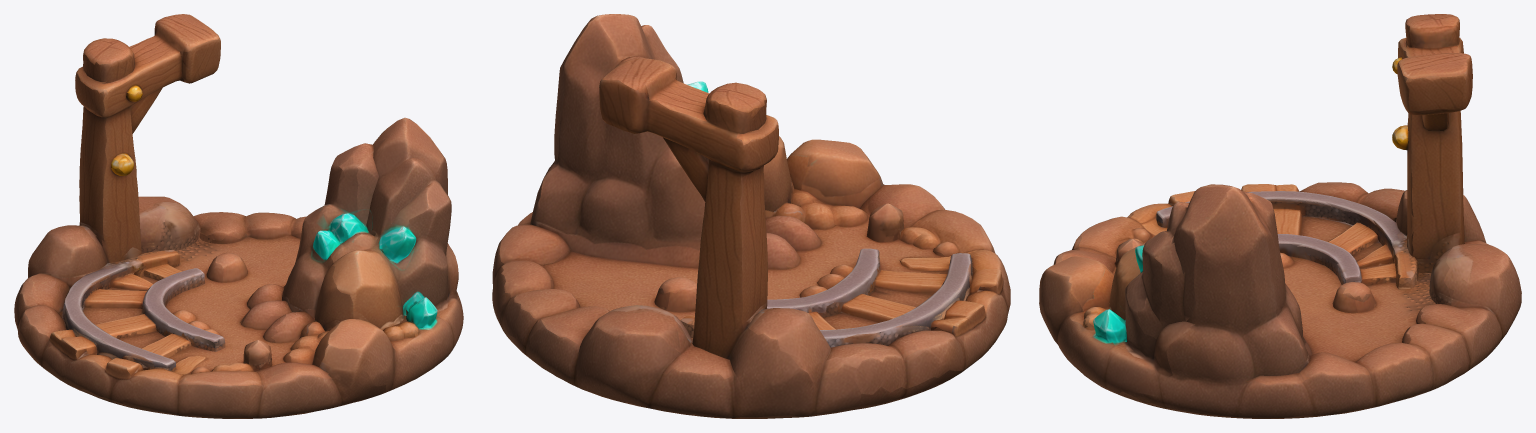
Rendered from mine-base.glb.
3 renders of one model, left to right at view 1: azimuth 30°, elevation 25°; view 2: azimuth 150°, elevation 25°; view 3: azimuth 270°, elevation 25°, orthographic. The views are drawn at different scales.
Parts seen in each view (by area): view 1: world; view 2: world; view 3: world.
Boxes of the visible parts, x1,y1,x2,y2 form: world: [14, 14, 463, 418]; world: [492, 14, 1010, 418]; world: [1039, 14, 1521, 418].
Bounding box in the file's own units: 0.9969 × 0.6278 × 0.9988.
Materials: 1 (1 with a texture image).
